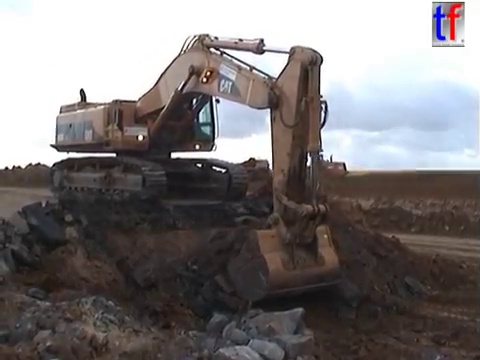excavator: (47, 29, 347, 307)
wheel loader: (247, 149, 351, 189)
